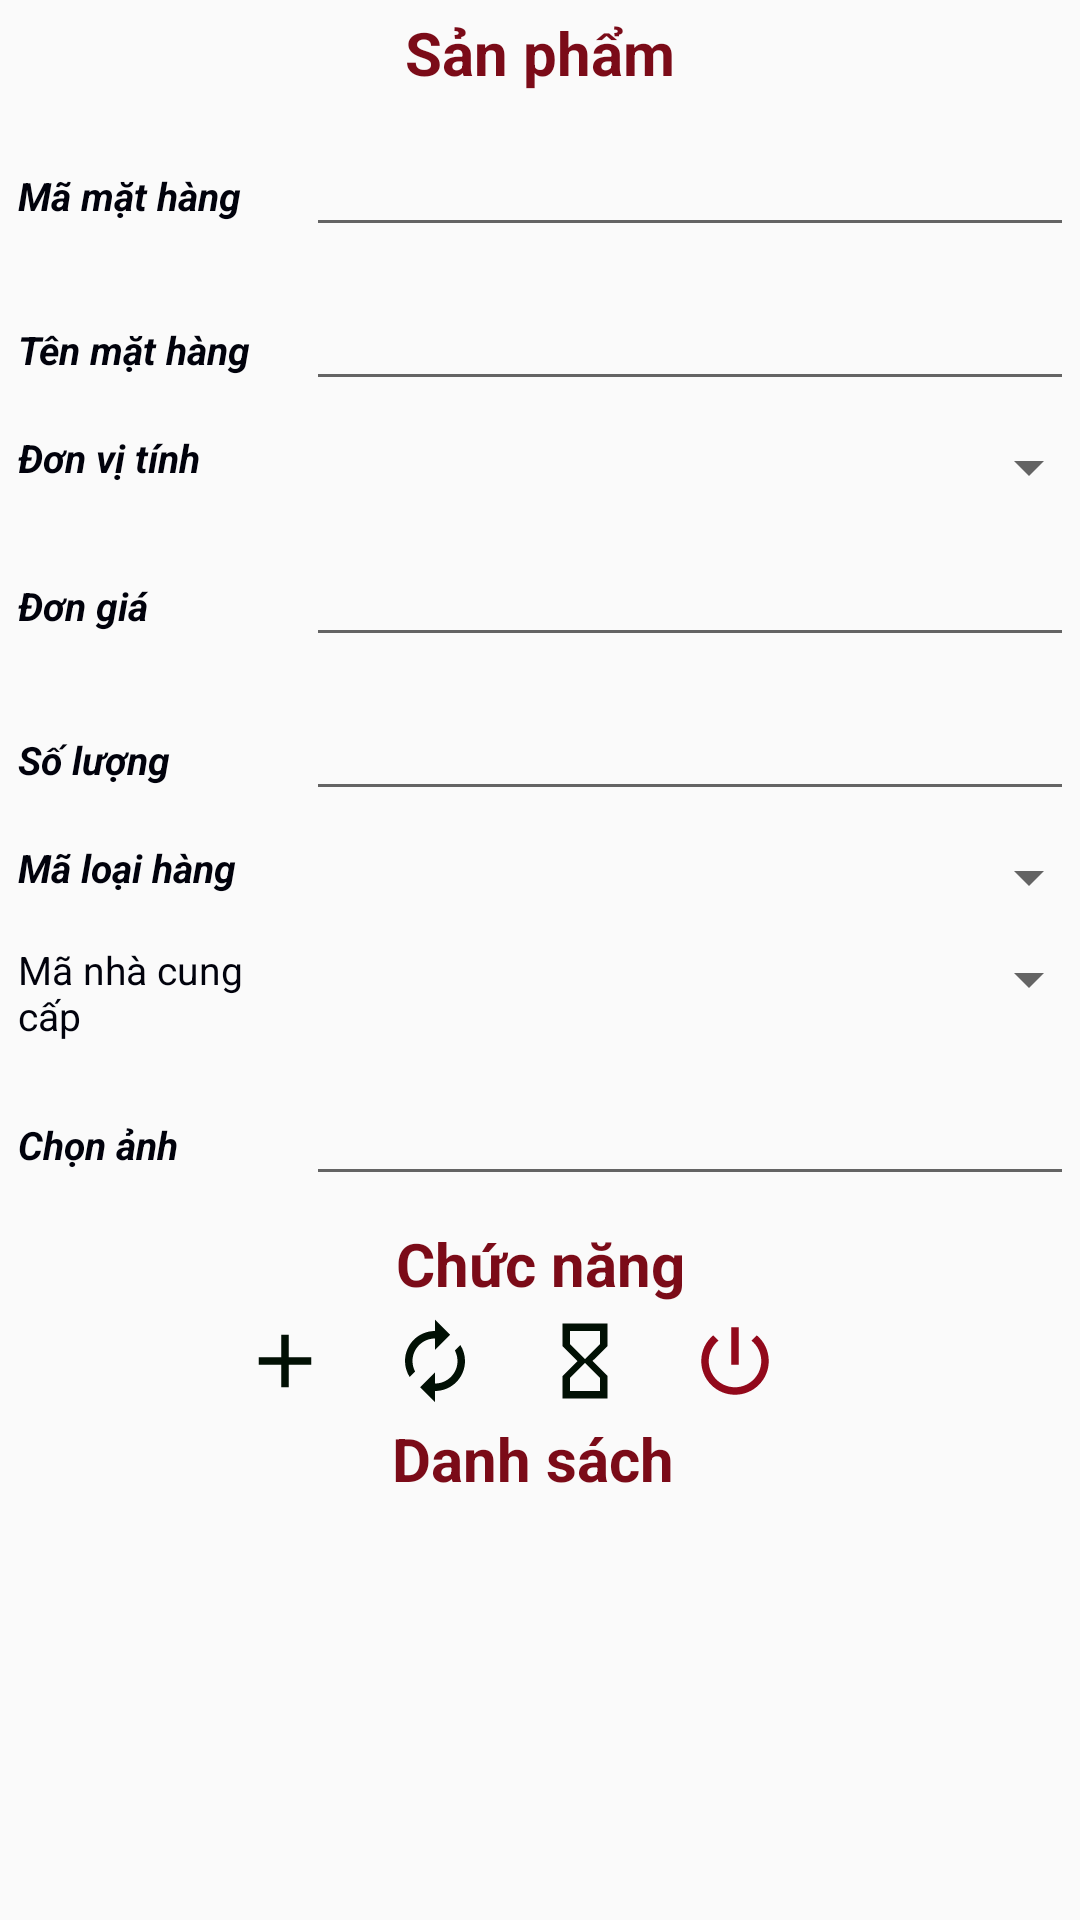

Point at icon controls on the screen. Image size 1080 × 1920, points as [x,y].
add: [285,1361]
hourglass empty: [585,1361]
power settings: [735,1361]
update: [435,1361]
